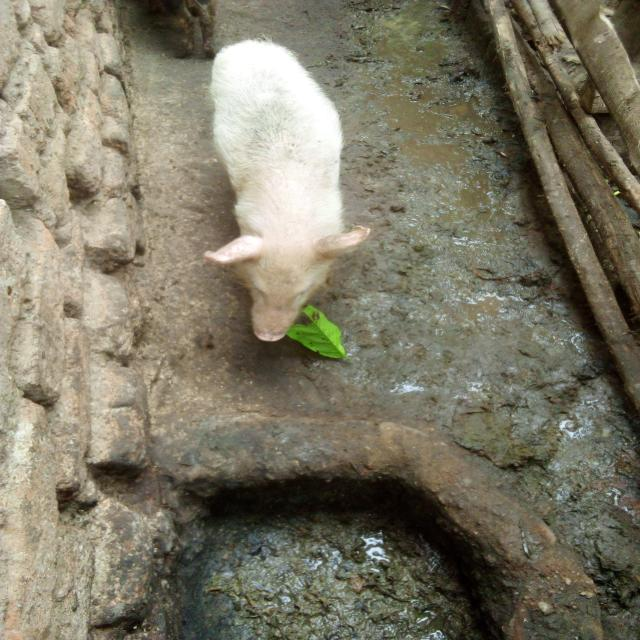pig: (157, 26, 436, 401)
